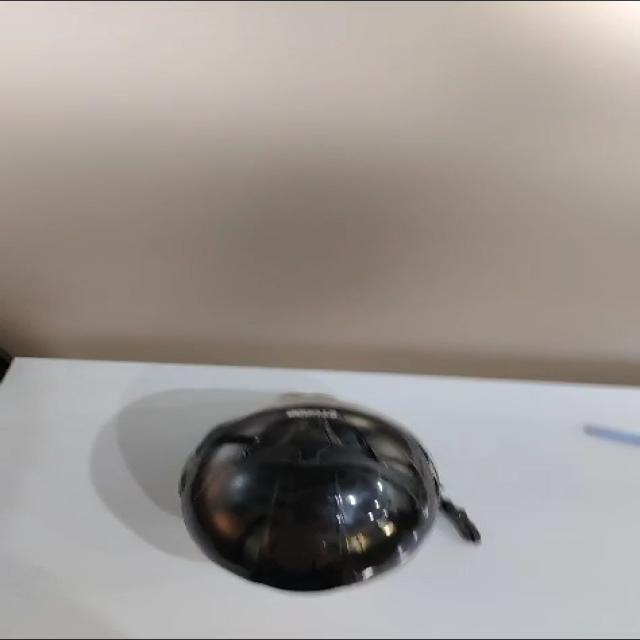helmet: (176, 396, 444, 603)
